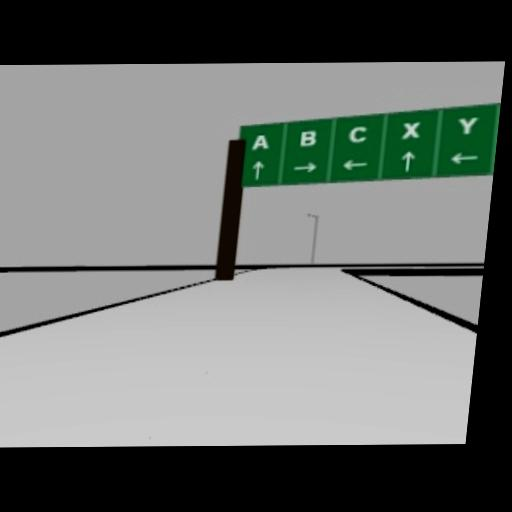A: (250, 133, 270, 149)
B: (299, 128, 317, 146)
C: (347, 124, 368, 142)
Left: (447, 151, 480, 164), (340, 158, 368, 169)
Right: (293, 162, 318, 172)
Straight: (401, 149, 416, 170), (250, 158, 265, 178)
X: (400, 120, 420, 138)
Y: (456, 115, 479, 134)
